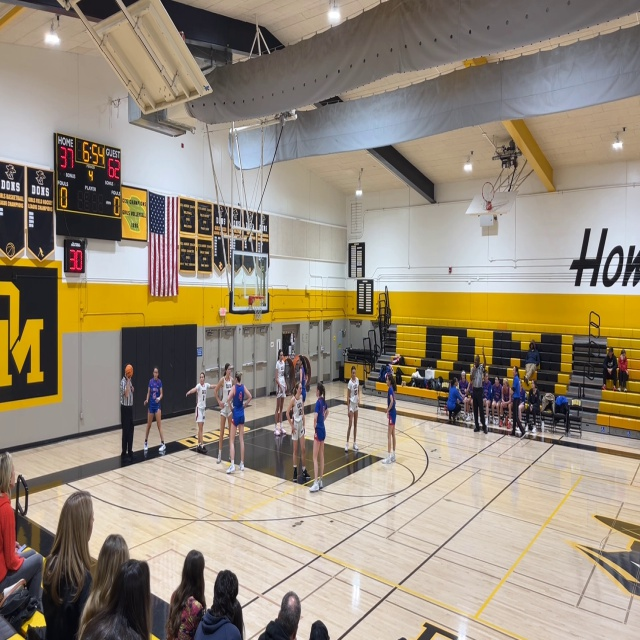Basketball: (125, 364, 133, 376)
